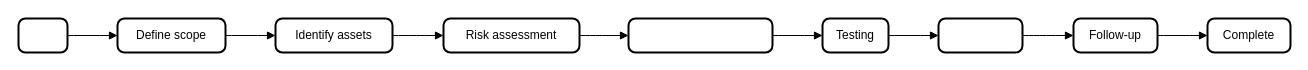
The diagram is 1308 pixels wide and 70 high, and some of its shapes have lost their labels. The shapes that lost their labels are listed below. From the top down, each one's centre as x and y in pixels, then its label:
At [42,35]: "Start".
At [700,35]: "Control evaluation".
At [980,35]: "Reporting".
